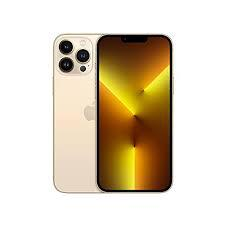Smartphone: (100, 27, 171, 194), (58, 27, 113, 193)
